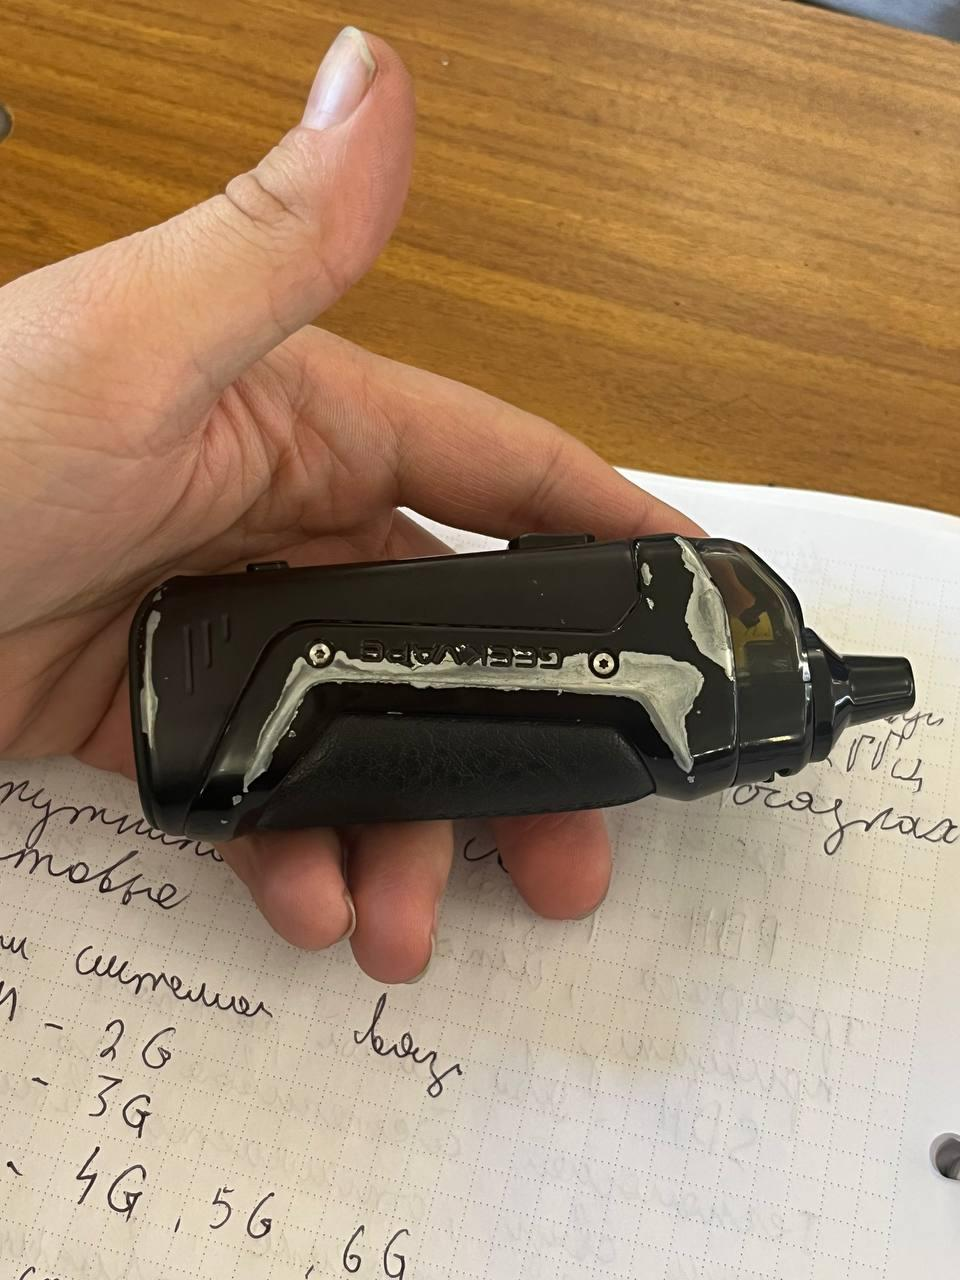Vape: (131, 535, 915, 840)
